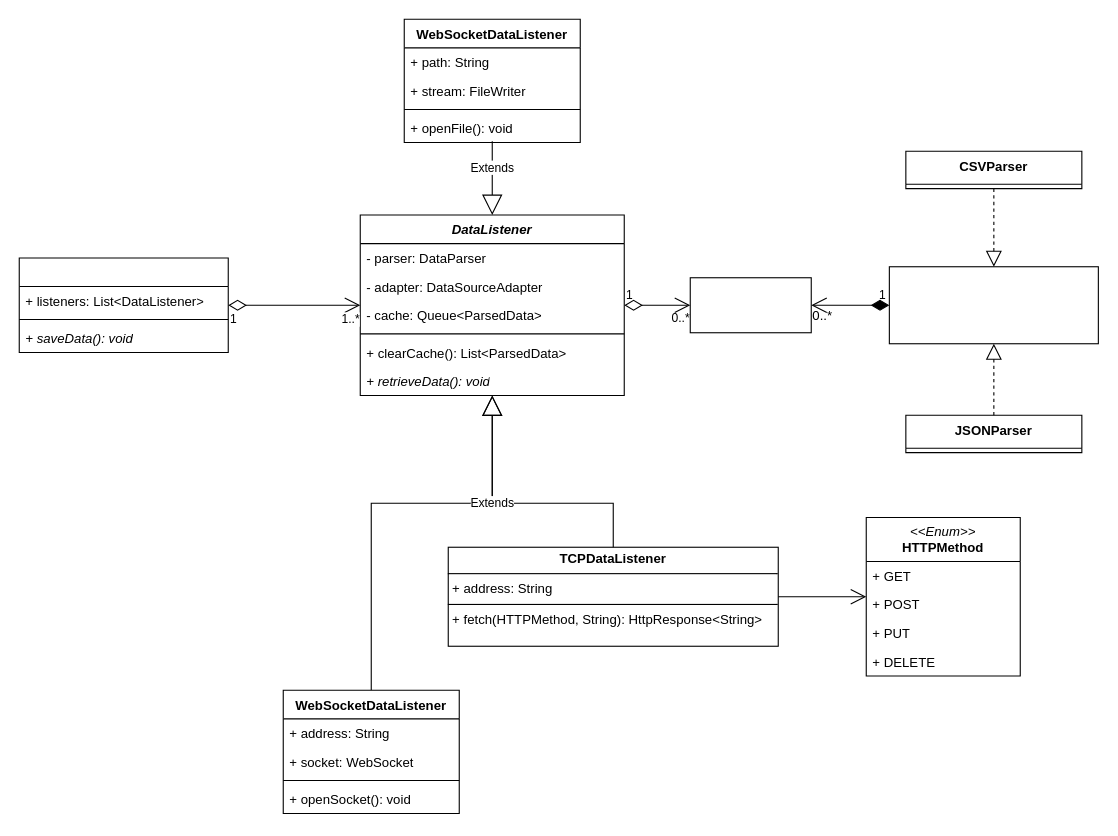
This 1118x836 diagram has some shape labels left out. The box of each missing label's shape, as (x1, y1, x2, y2) in pixels:
<<Interface>> DataParser + parse(String): ParsedData: (888, 266, 1098, 344)
DataSourceAdapter: (18, 257, 228, 353)
«interface» ParsedData: (689, 277, 811, 333)
